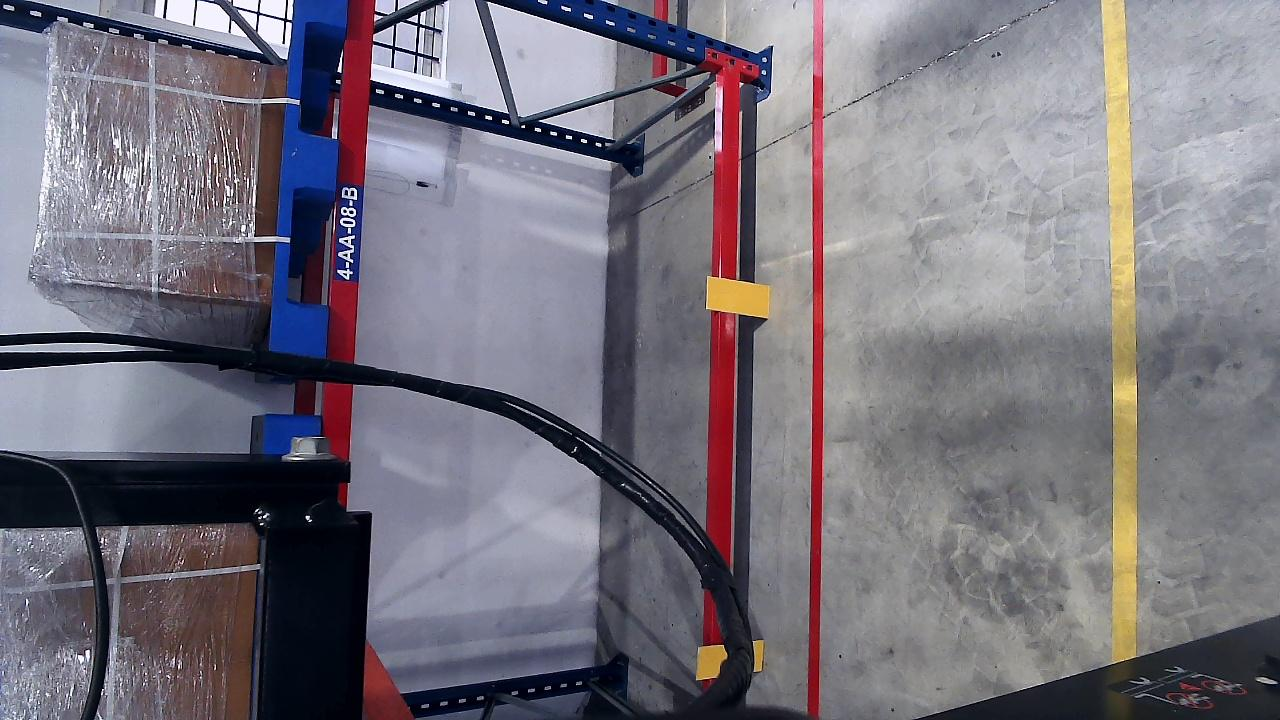h_rack: (710, 71, 747, 685), (324, 0, 380, 359)
orange_strip: (704, 276, 770, 317), (696, 643, 728, 679)
red_line: (808, 31, 827, 718)
small_pallet: (272, 2, 346, 357)
yellow_line: (1102, 0, 1138, 659)
